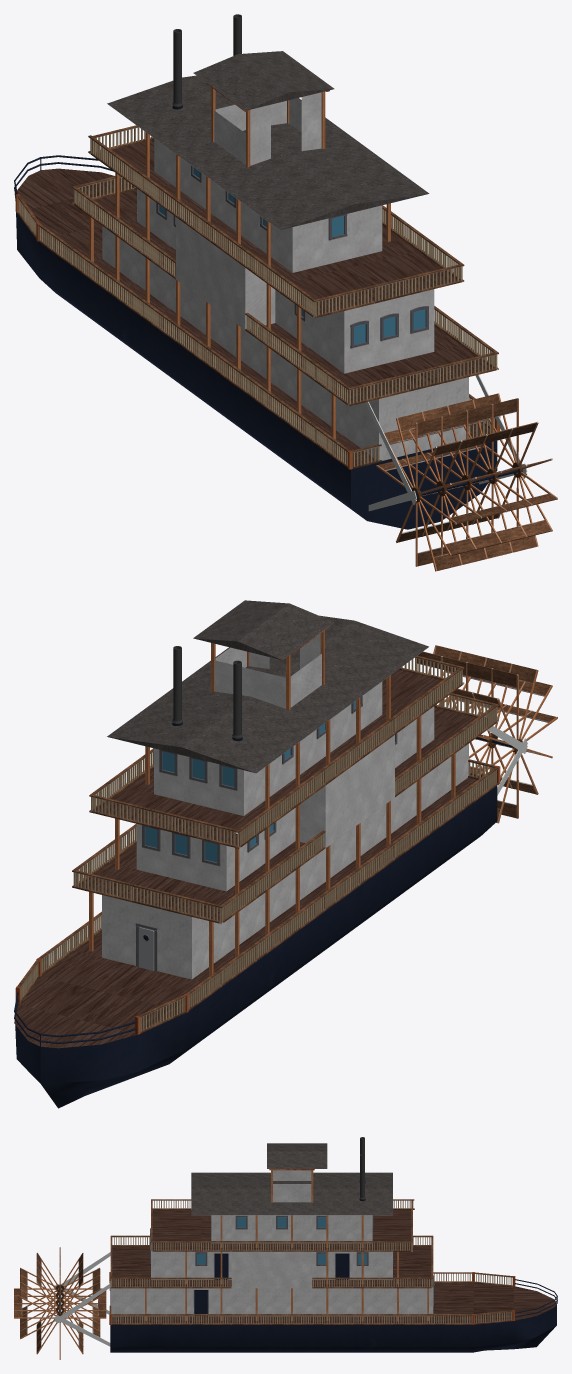
Rendered from steamboat.glb.
3 renders of one model, top to bottom at view 1: azimuth 30°, elevation 25°; view 2: azimuth 150°, elevation 25°; view 3: azimuth 270°, elevation 25°, orthographic. The views are drawn at different scales.
Parts seen in each view (by area): view 1: Object_2; view 2: Object_2; view 3: Object_2.
Part boxes in pixels (x1=…): Object_2: x1=14, y1=14, x2=557, y2=571; Object_2: x1=14, y1=600, x2=557, y2=1108; Object_2: x1=14, y1=1137, x2=557, y2=1359.
Bounding box in the file's own units: 20.12 × 43.89 × 108.
1 material, 1 textured.
